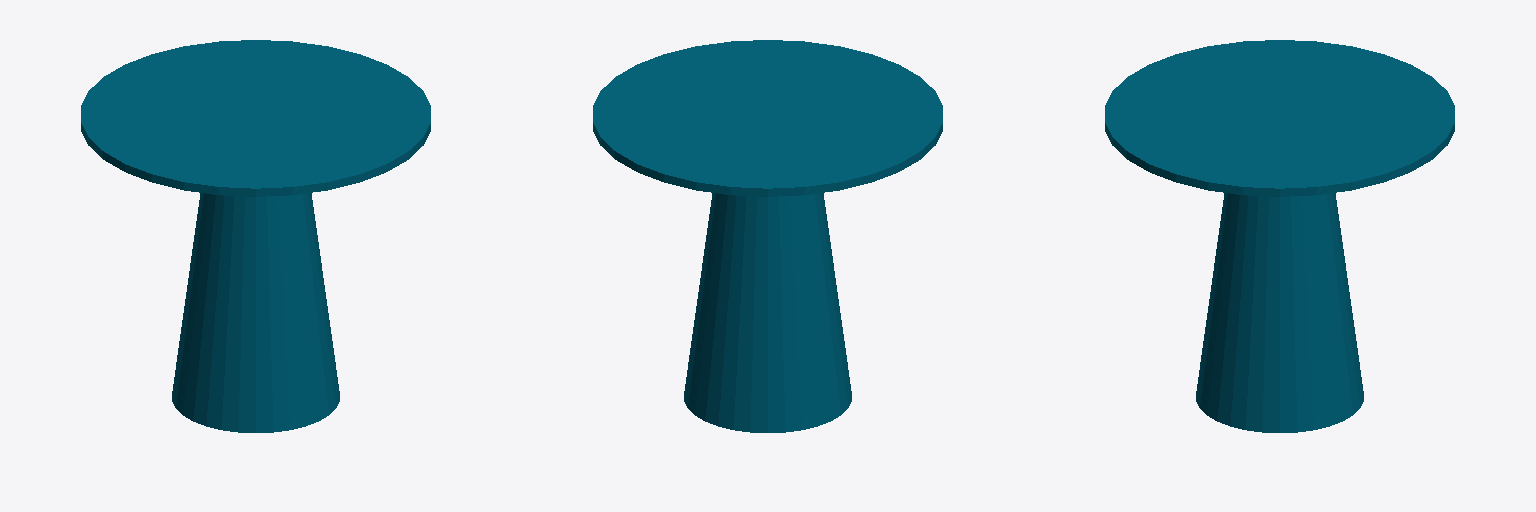
File: F_table_0023.obj
3 views of the same model, side by side, from view 1: azimuth 30°, elevation 25°; view 2: azimuth 150°, elevation 25°; view 3: azimuth 270°, elevation 25° (orthographic).
Parts seen in each view (by area): view 1: Cylinder01, Cylinder02; view 2: Cylinder01, Cylinder02; view 3: Cylinder01, Cylinder02.
Part boxes in pixels (bbox=[...]): Cylinder01: bbox=[81, 40, 430, 196]; Cylinder02: bbox=[172, 193, 339, 432]; Cylinder01: bbox=[593, 40, 942, 196]; Cylinder02: bbox=[684, 193, 851, 432]; Cylinder01: bbox=[1105, 40, 1454, 196]; Cylinder02: bbox=[1196, 193, 1363, 432].
Bounding box in the file's own units: 580 × 515 × 577.